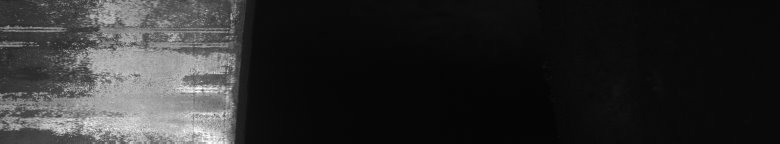kb: (4, 4, 224, 136)
